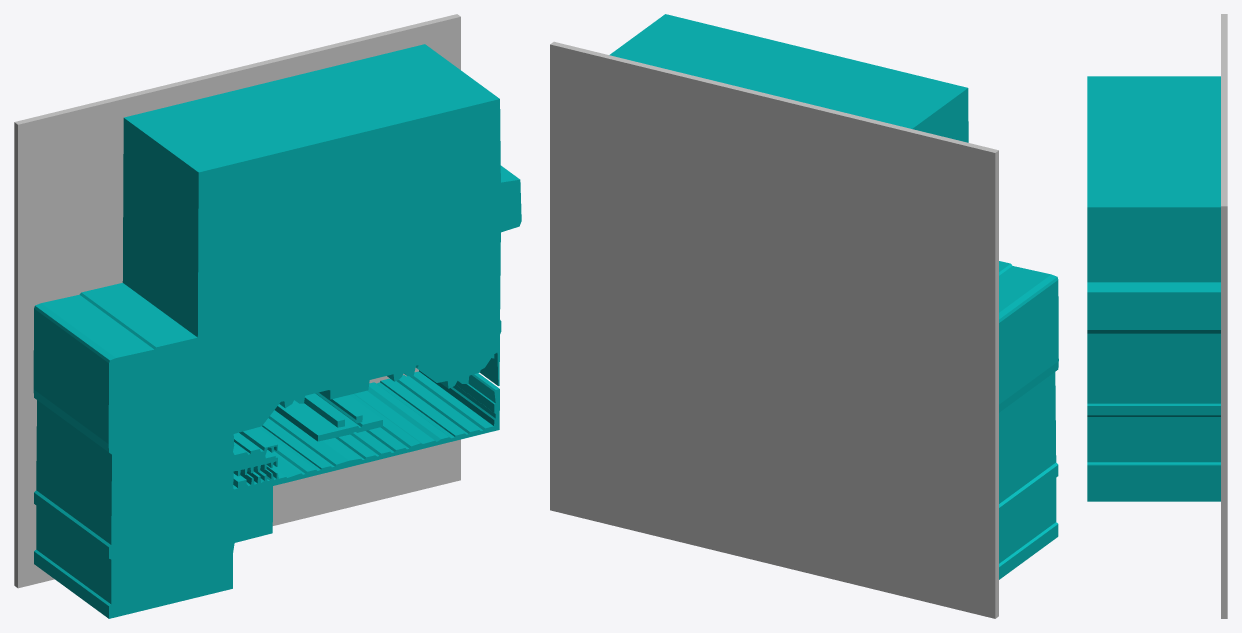
3 views of the same model, side by side, from view 1: azimuth 30°, elevation 25°; view 2: azimuth 150°, elevation 25°; view 3: azimuth 270°, elevation 25° (orthographic). The views are drawn at different scales.
Parts seen in each view (by area): view 1: world; view 2: world; view 3: world.
Boxes of the visible parts, left/top/right/bottom form: world: left=14, top=14, right=521, bottom=618; world: left=550, top=14, right=1058, bottom=618; world: left=1087, top=14, right=1227, bottom=618.
Size of the model in its own units: 10.23 by 10.23 by 3.15.
